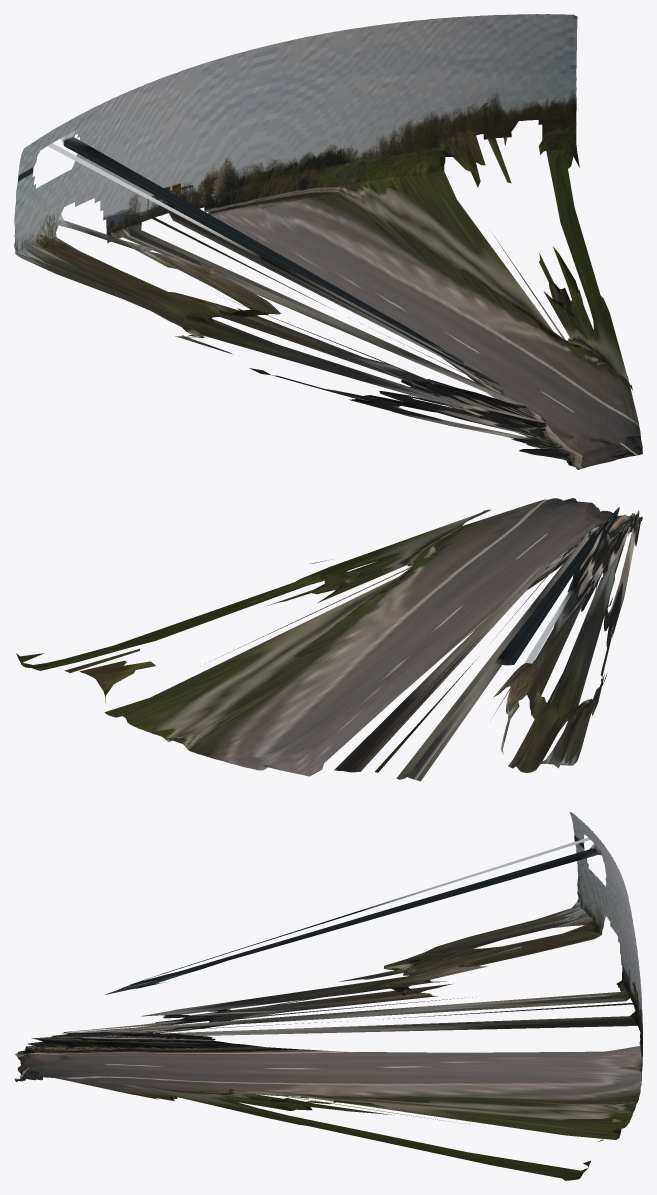
The picture shows the model from 3 angles, top to bottom: view 1: azimuth 30°, elevation 25°; view 2: azimuth 150°, elevation 25°; view 3: azimuth 270°, elevation 25°; orthographic projection. The views are drawn at different scales.
Visible parts, largest first — view 1: defaultobject; view 2: defaultobject; view 3: defaultobject.
Boxes of the visible parts, box(x1,y1,x2,y2) form: defaultobject: box(14, 14, 642, 469); defaultobject: box(16, 498, 642, 781); defaultobject: box(14, 812, 642, 1180).
Bounding box in the file's own units: 41.09 × 11.95 × 44.6.
1 material, 1 textured.
